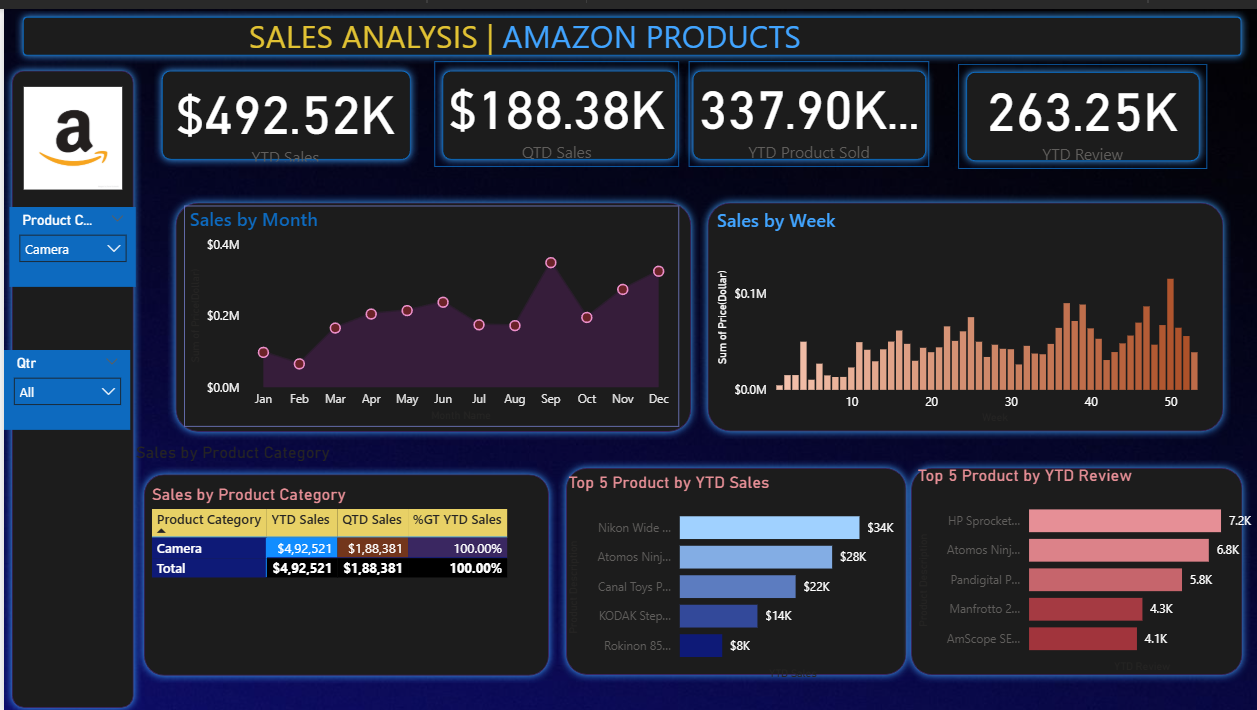

The page's visual inventory and layout, read from the dashboard file:
{"tool":"powerbi","page":{"name":"Page 1","canvas":[1280,720],"ordinal":0},"visuals":[{"type":"shape","box":[694.3,54.4,254.3,107.1],"z":0},{"type":"card","fields":{"Values":["Amazon_Data.YTD Product Sold"]},"box":[698.2,53.3,245.4,108],"z":1000},{"type":"shape","box":[11.4,0,1258.6,55.7],"z":2000},{"type":"textbox","box":[237.1,0,588.6,54.3],"z":3000},{"type":"shape","box":[0,54.7,140.2,666],"z":4000},{"type":"shape","box":[152.9,54.4,270,107.1],"z":5000},{"type":"card","fields":{"Values":["Amazon_Data.YTD Sales"]},"box":[159,63.3,256.4,97.4],"z":6000},{"type":"shape","box":[438.6,54.3,254.3,107.1],"z":7000},{"type":"shape","box":[972.9,55.7,254.3,107.1],"z":8000},{"type":"card","fields":{"Values":["Amazon_Data.QTD Sales"]},"box":[439.4,53,249.6,107.7],"z":9000},{"type":"card","fields":{"Values":["Amazon_Data.YTD Review"]},"box":[973,56.1,253.8,106.6],"z":10000},{"type":"shape","box":[167.5,189.8,542,250],"z":11000},{"type":"shape","box":[709.5,189.8,541.9,249.6],"z":12000},{"type":"columnChart","title":"Sales by Week","fields":{"Category":["Date Table.Week"],"Y":["Sum(Amazon_Data.Price(Dollar))"]},"box":[722.1,201.9,520.2,225.7],"z":13000},{"type":"shape","title":"Sales by Product Category","box":[135.1,441.1,429.1,246.2],"z":14000},{"type":"pivotTable","title":"Sales by Product Category","fields":{"Rows":["Amazon_Data.Product Category"],"Values":["Amazon_Data.YTD Sales","Amazon_Data.QTD Sales","Divide(Amazon_Data.YTD Sales, ScopedEval(Amazon_Data.YTD Sales, []))"]},"box":[145.3,485.5,418.8,201.7],"z":15000},{"type":"shape","box":[565,459.9,363.1,227.1],"z":16000},{"type":"shape","box":[916.3,459.9,353.9,227.4],"z":17000},{"type":"clusteredBarChart","title":"Top 5 Product by YTD Sales","fields":{"Category":["Amazon_Data.Product Description"],"Y":["Amazon_Data.YTD Sales"]},"box":[571,471.8,353.9,215.4],"z":18000},{"type":"clusteredBarChart","title":"Top 5 Product by YTD Review","fields":{"Category":["Amazon_Data.Product Description"],"Y":["Amazon_Data.YTD Review"]},"box":[926.6,465,353.9,215.4],"z":19000},{"type":"slicer","fields":{"Values":["Amazon_Data.Product Category"]},"box":[5.6,201.9,129,81.3],"z":20000},{"type":"slicer","fields":{"Values":["Date Table.Qtr"]},"box":[0,347.7,129,81.3],"z":21000},{"type":"image","box":[5.6,74.3,129,115],"z":22000},{"type":"areaChart","title":"Sales by Month","fields":{"Category":["Date Table.Month Name"],"Y":["Sum(Amazon_Data.Price(Dollar))"]},"box":[183.7,200.5,504.7,225.7],"z":23000}]}

Visuals, with their boxes in screenshot pixels (x1, y1, x2, y2), scaled from the page's 1280x720 canvas onto the 1257x710 screenshot:
shape: 682, 54, 932, 159
card - Amazon_Data.YTD Product Sold: 686, 53, 927, 159
shape: 11, 0, 1247, 55
textbox: 233, 0, 811, 54
shape: 0, 54, 138, 709
shape: 150, 54, 415, 159
card - Amazon_Data.YTD Sales: 156, 62, 408, 158
shape: 431, 54, 680, 159
shape: 955, 55, 1205, 161
card - Amazon_Data.QTD Sales: 432, 52, 677, 158
card - Amazon_Data.YTD Review: 956, 55, 1205, 160
shape: 164, 187, 697, 434
shape: 697, 187, 1229, 433
"Sales by Week" columnChart: 709, 199, 1220, 422
"Sales by Product Category" shape: 133, 435, 554, 678
"Sales by Product Category" pivotTable: 143, 479, 554, 678
shape: 555, 454, 911, 677
shape: 900, 454, 1247, 678
"Top 5 Product by YTD Sales" clusteredBarChart: 561, 465, 908, 678
"Top 5 Product by YTD Review" clusteredBarChart: 910, 459, 1256, 671
slicer - Amazon_Data.Product Category: 5, 199, 132, 279
slicer - Date Table.Qtr: 0, 343, 127, 423
image: 5, 73, 132, 187
"Sales by Month" areaChart: 180, 198, 676, 420
